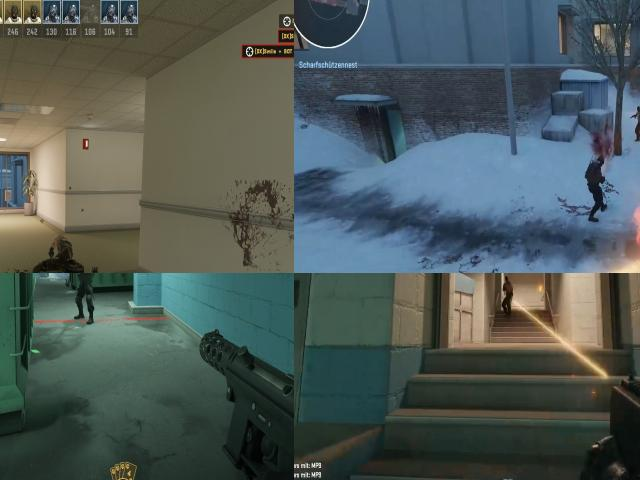CT: (77, 273, 92, 318)
Dead: (584, 157, 606, 216), (46, 231, 76, 273)
T: (503, 273, 515, 306), (634, 104, 640, 143)
T-Head: (632, 104, 640, 114), (504, 276, 512, 286)
